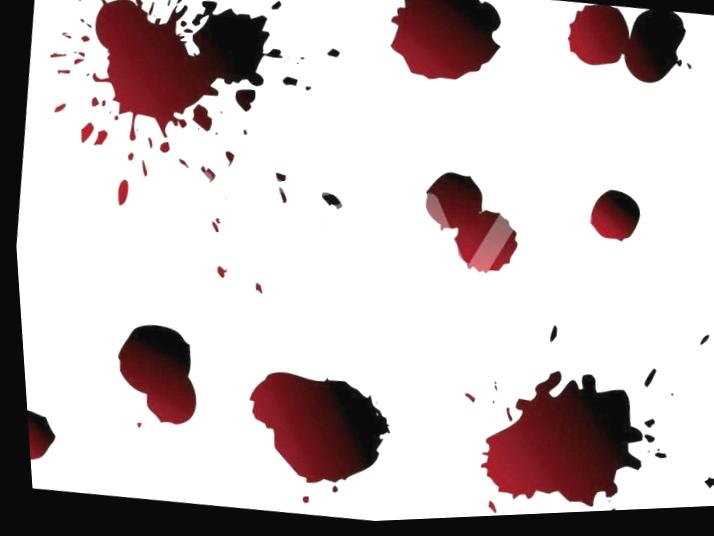Fire: (89, 0, 281, 143), (472, 377, 636, 513), (242, 375, 383, 486), (388, 0, 500, 84), (422, 176, 513, 279), (567, 10, 684, 90), (112, 326, 190, 427), (585, 196, 636, 247), (22, 412, 48, 460)
